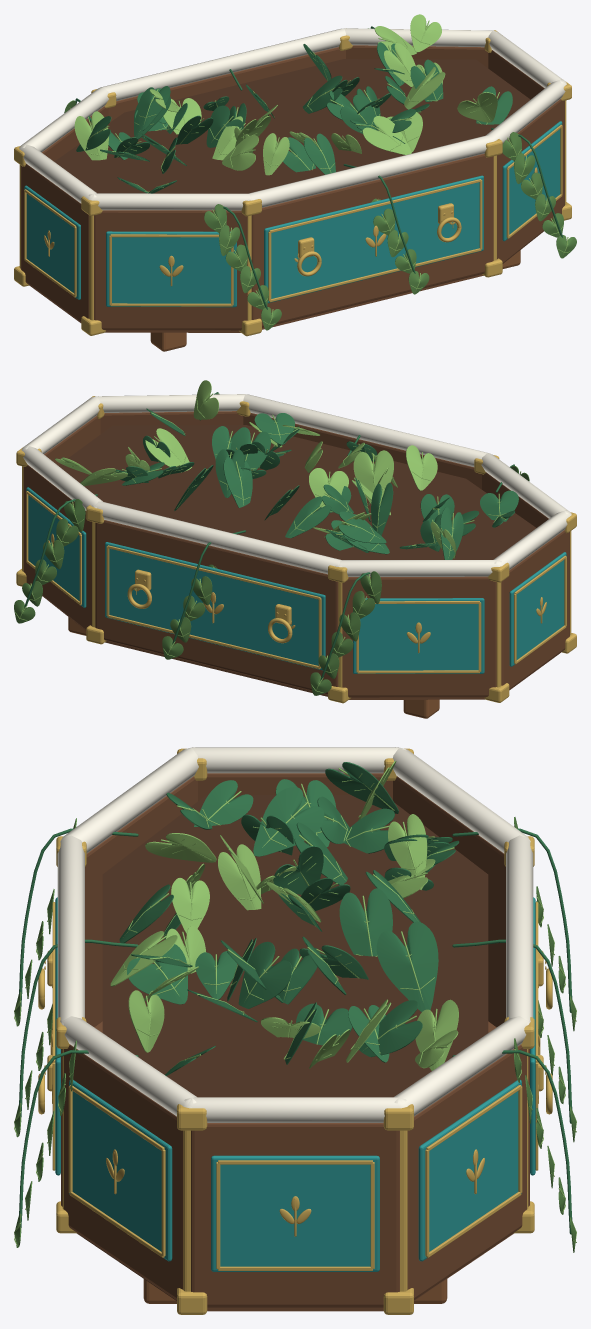
Rendered from coffin_planter.glb.
The picture shows the model from 3 angles, top to bottom: view 1: azimuth 30°, elevation 25°; view 2: azimuth 150°, elevation 25°; view 3: azimuth 270°, elevation 25°; orthographic projection. The views are drawn at different scales.
Parts seen in each view (by area): view 1: Recessed_waterproof_soil, Inset_teal_panel.005, Walnut_carved_side.005, Inset_teal_panel.006, Walnut_carved_side.006, Continuous_moulded_edge.017, Continuous_moulded_edge.005, Inset_teal_panel.007, Walnut_carved_side.007, Inset_teal_panel.004, Walnut_carved_side.004, Walnut_carved_side.001 (+41 smaller); view 2: Recessed_waterproof_soil, Inset_teal_panel.001, Walnut_carved_side.001, Inset_teal_panel, Walnut_carved_side, Continuous_moulded_edge.005, Continuous_moulded_edge.017, Inset_teal_panel.007, Walnut_carved_side.007, Inset_teal_panel.002, Walnut_carved_side.002, Continuous_moulded_edge.002 (+37 smaller); view 3: Recessed_waterproof_soil, Walnut_carved_side.003, Inset_teal_panel.003, Inset_teal_panel.002, Inset_teal_panel.004, Walnut_carved_side.004, Walnut_carved_side.002, Walnut_carved_side, Walnut_carved_side.006, Continuous_moulded_edge.011, Continuous_moulded_edge.005, Continuous_moulded_edge.017 (+54 smaller).
Boxes of the visible parts, <box> form: Recessed_waterproof_soil: <box>54,59,530,193</box>; Inset_teal_panel.005: <box>264,175,483,303</box>; Walnut_carved_side.005: <box>251,153,493,327</box>; Inset_teal_panel.006: <box>106,231,236,307</box>; Walnut_carved_side.006: <box>94,210,247,330</box>; Continuous_moulded_edge.017: <box>247,135,496,207</box>; Continuous_moulded_edge.005: <box>100,28,345,100</box>; Inset_teal_panel.007: <box>24,185,80,299</box>; Walnut_carved_side.007: <box>21,163,89,322</box>; Inset_teal_panel.004: <box>502,121,562,241</box>; Walnut_carved_side.004: <box>497,99,564,263</box>; Walnut_carved_side.001: <box>108,47,345,122</box>; Recessed_waterproof_soil: <box>58,425,536,559</box>; Inset_teal_panel.001: <box>105,542,325,670</box>; Walnut_carved_side.001: <box>95,520,338,694</box>; Inset_teal_panel: <box>353,598,484,673</box>; Walnut_carved_side: <box>342,576,496,697</box>; Continuous_moulded_edge.005: <box>92,501,342,574</box>; Continuous_moulded_edge.017: <box>243,394,490,466</box>; Inset_teal_panel.007: <box>509,552,566,666</box>; Walnut_carved_side.007: <box>501,530,569,689</box>; Inset_teal_panel.002: <box>26,487,86,607</box>; Walnut_carved_side.002: <box>23,465,91,630</box>; Continuous_moulded_edge.002: <box>335,560,502,576</box>; Recessed_waterproof_soil: <box>102,795,488,1097</box>; Walnut_carved_side.003: <box>191,1123,399,1307</box>; Inset_teal_panel.003: <box>211,1155,379,1271</box>; Inset_teal_panel.002: <box>418,1080,521,1261</box>; Inset_teal_panel.004: <box>69,1080,172,1261</box>; Walnut_carved_side.004: <box>64,1044,183,1299</box>; Walnut_carved_side.002: <box>407,1044,526,1299</box>; Walnut_carved_side: <box>393,776,505,1027</box>; Walnut_carved_side.006: <box>85,776,197,1027</box>; Continuous_moulded_edge.011: <box>183,1097,407,1122</box>; Continuous_moulded_edge.005: <box>506,835,533,1025</box>; Continuous_moulded_edge.017: <box>57,835,84,1025</box>.
Size of the model in its own units: 1.26 by 0.4614 by 0.8163.
